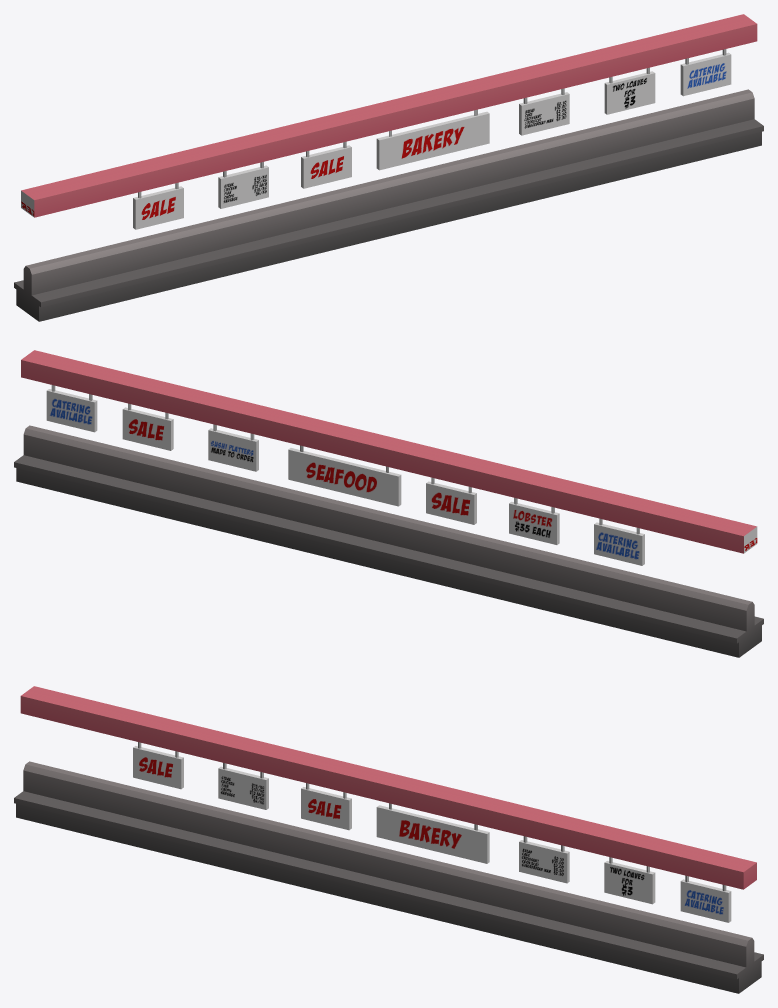
Rendered from deli_mainSigns.fbx.
3 views of the same model, one above another, from view 1: azimuth 30°, elevation 25°; view 2: azimuth 150°, elevation 25°; view 3: azimuth 330°, elevation 25° (orthographic).
Visible parts, largest first — view 1: deli_mainSigns; view 2: deli_mainSigns; view 3: deli_mainSigns.
Part boxes in pixels (x1,y1,x2,y2): deli_mainSigns: [14, 14, 763, 321]; deli_mainSigns: [14, 350, 763, 657]; deli_mainSigns: [14, 686, 763, 993].
Size of the model in its own units: 3243 by 506 by 210.
1 material, 1 textured.
